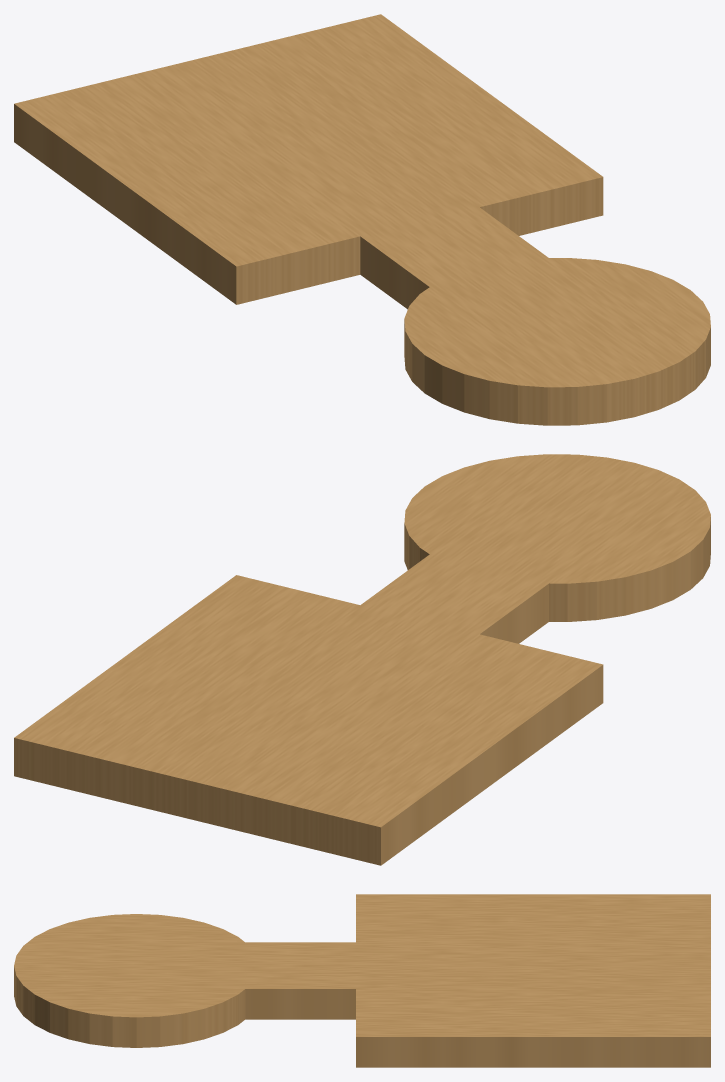
The model's file is road_joint.obj.
3 renders of one model, top to bottom at view 1: azimuth 30°, elevation 25°; view 2: azimuth 150°, elevation 25°; view 3: azimuth 270°, elevation 25°, orthographic. The views are drawn at different scales.
Bounding box in the file's own units: 0.4 × 0.04 × 0.825.
Materials: 1 (1 with a texture image).
